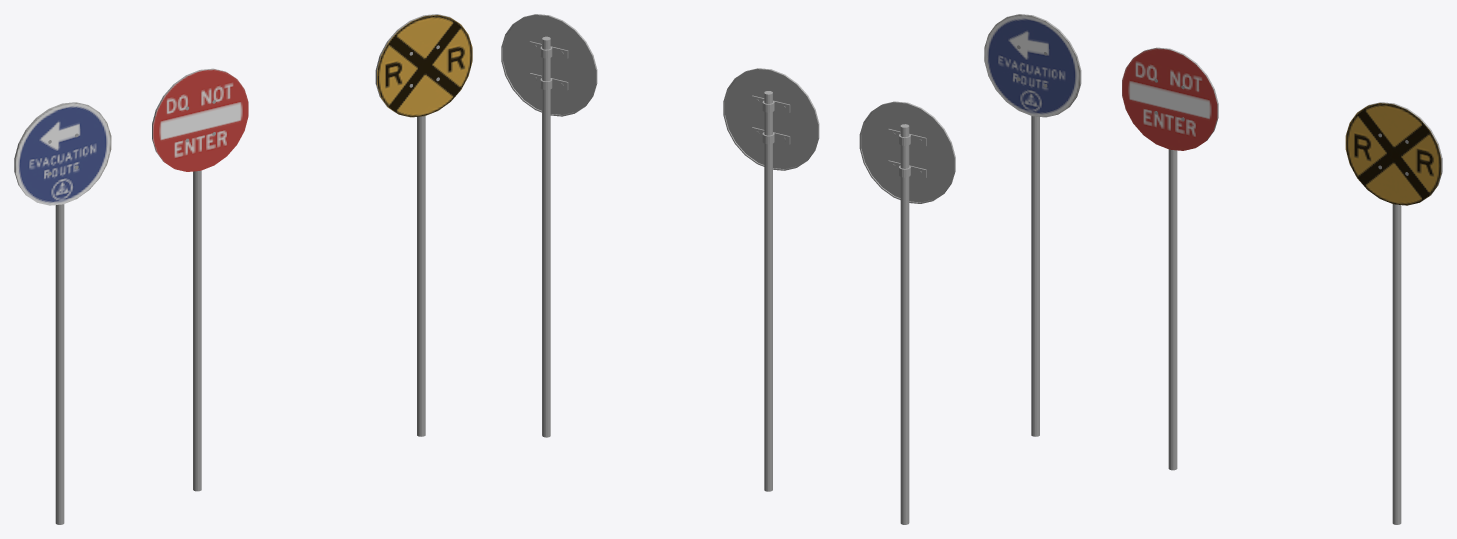
The model's file is signs_1.fbx.
3 renders of one model, left to right at view 1: azimuth 30°, elevation 25°; view 2: azimuth 150°, elevation 25°; view 3: azimuth 330°, elevation 25°, orthographic.
Visible parts, largest first — view 1: sign_1, sign_3, sign_2; view 2: sign_1, sign_2, sign_3; view 3: sign_3, sign_2, sign_1.
Boxes of the visible parts, x1,y1,x2,y2 form: sign_1: [14, 102, 111, 524]; sign_3: [375, 14, 472, 436]; sign_2: [152, 68, 248, 491]; sign_1: [859, 101, 955, 524]; sign_2: [723, 68, 819, 491]; sign_3: [501, 14, 597, 437]; sign_3: [1345, 102, 1442, 524]; sign_2: [1122, 47, 1218, 470]; sign_1: [984, 14, 1081, 436].
Size of the model in its own units: 2.39 by 2.1 by 0.0589.
